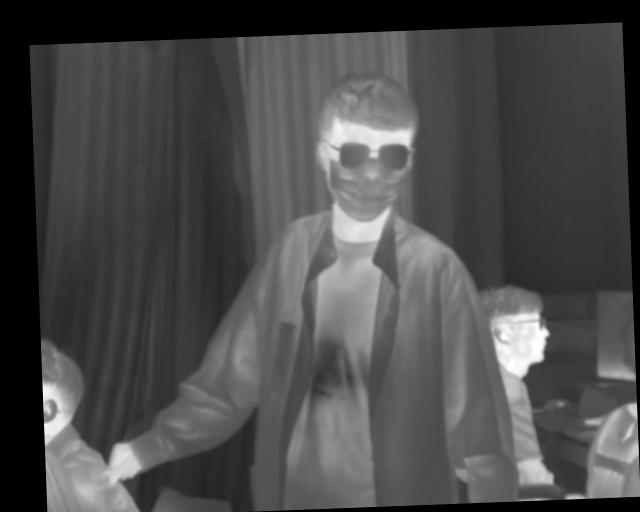face: (315, 68, 422, 222)
